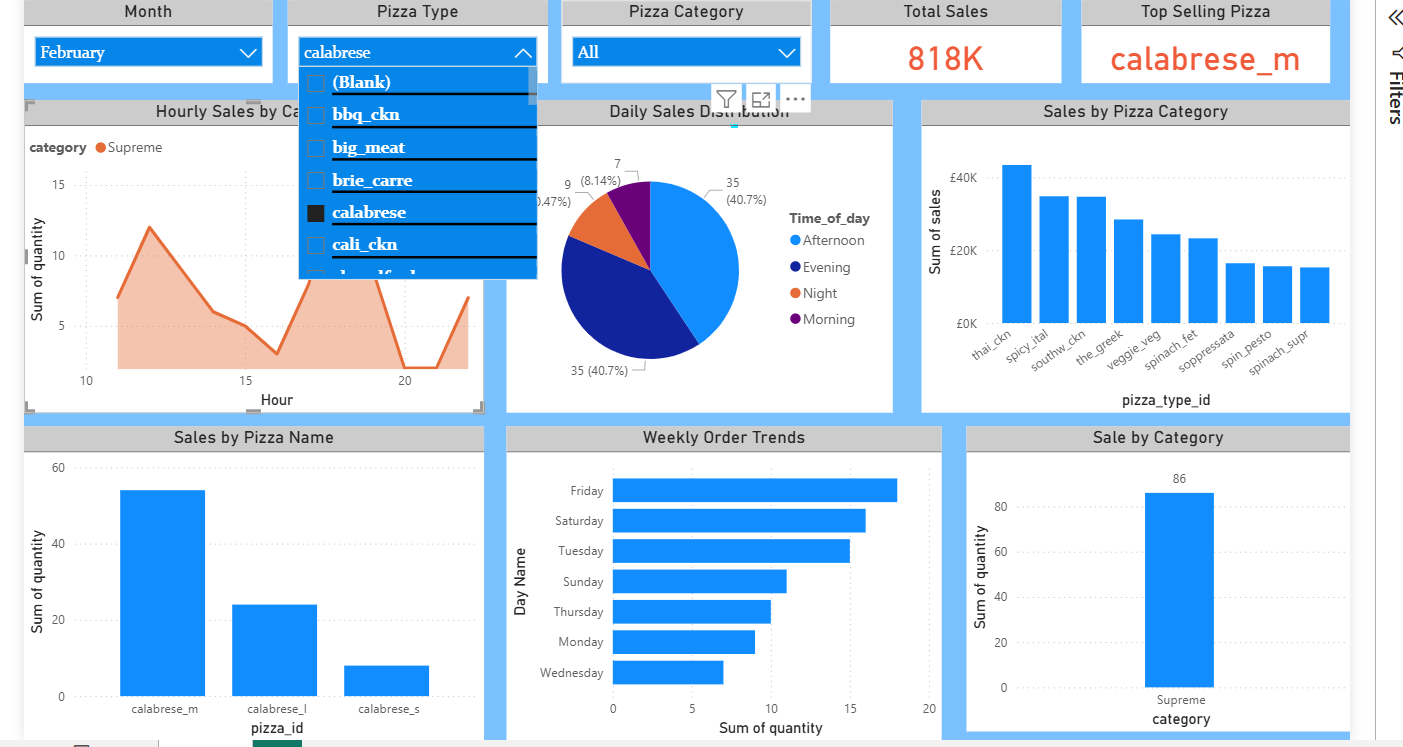

This screenshot's page, from the dashboard's own definition file:
{"tool":"powerbi","page":{"name":"Page 1","canvas":[1280,720],"ordinal":0},"visuals":[{"type":"clusteredBarChart","fields":{"Category":["orders.Day Name"],"Y":["Sum(order_details.quantity)"]},"box":[10,0,304.3,305.7],"z":0},{"type":"columnChart","fields":{"Category":["order_details.pizza_id"],"Y":["Sum(order_details.quantity)"]},"box":[10,360,372.9,360],"z":1},{"type":"pieChart","fields":{"Y":["Sum(order_details.quantity)"],"Category":["orders.Time_of_day"]},"box":[348.6,0,372.9,268.6],"z":2},{"type":"columnChart","title":"Hot selling Category of pizza","fields":{"Category":["pizza_types.category"],"Y":["Sum(order_details.quantity)"]},"box":[422.9,360,374.3,358.6],"z":3},{"type":"card","fields":{"Values":["pizzas.Total Sales"]},"box":[677.1,0,278.6,82.9],"z":6},{"type":"card","fields":{"Values":["order_details.Most Ordered Pizza"]},"box":[887.1,14.3,352.9,82.9],"z":7},{"type":"columnChart","fields":{"Y":["CountNonNull(pizzas.sales)"],"Category":["pizzas.pizza_type_id"]},"box":[817.1,422.9,318.6,297.1],"z":8},{"type":"lineChart","fields":{"Y":["Sum(order_details.order_details_id)"],"Category":["orders.Hour"]},"box":[898.6,157.1,300,235.7],"z":9},{"type":"qnaVisual","box":[1130,422.9,150,297.1],"z":10}]}

Visuals, with their boxes on the page's 1280x720 design canvas (x1, y1, x2, y2). These are canvas units, not pixel positions in the 1403x747 screenshot, which may show the page scaled, cropped or inside an application window:
clusteredBarChart - orders.Day Name x Sum(order_details.quantity): bbox=[10, 0, 314, 306]
columnChart - order_details.pizza_id x Sum(order_details.quantity): bbox=[10, 360, 383, 720]
pieChart - Sum(order_details.quantity) x orders.Time_of_day: bbox=[349, 0, 722, 269]
"Hot selling Category of pizza" columnChart: bbox=[423, 360, 797, 719]
card - pizzas.Total Sales: bbox=[677, 0, 956, 83]
card - order_details.Most Ordered Pizza: bbox=[887, 14, 1240, 97]
columnChart - CountNonNull(pizzas.sales) x pizzas.pizza_type_id: bbox=[817, 423, 1136, 720]
lineChart - Sum(order_details.order_details_id) x orders.Hour: bbox=[899, 157, 1199, 393]
qnaVisual: bbox=[1130, 423, 1280, 720]
